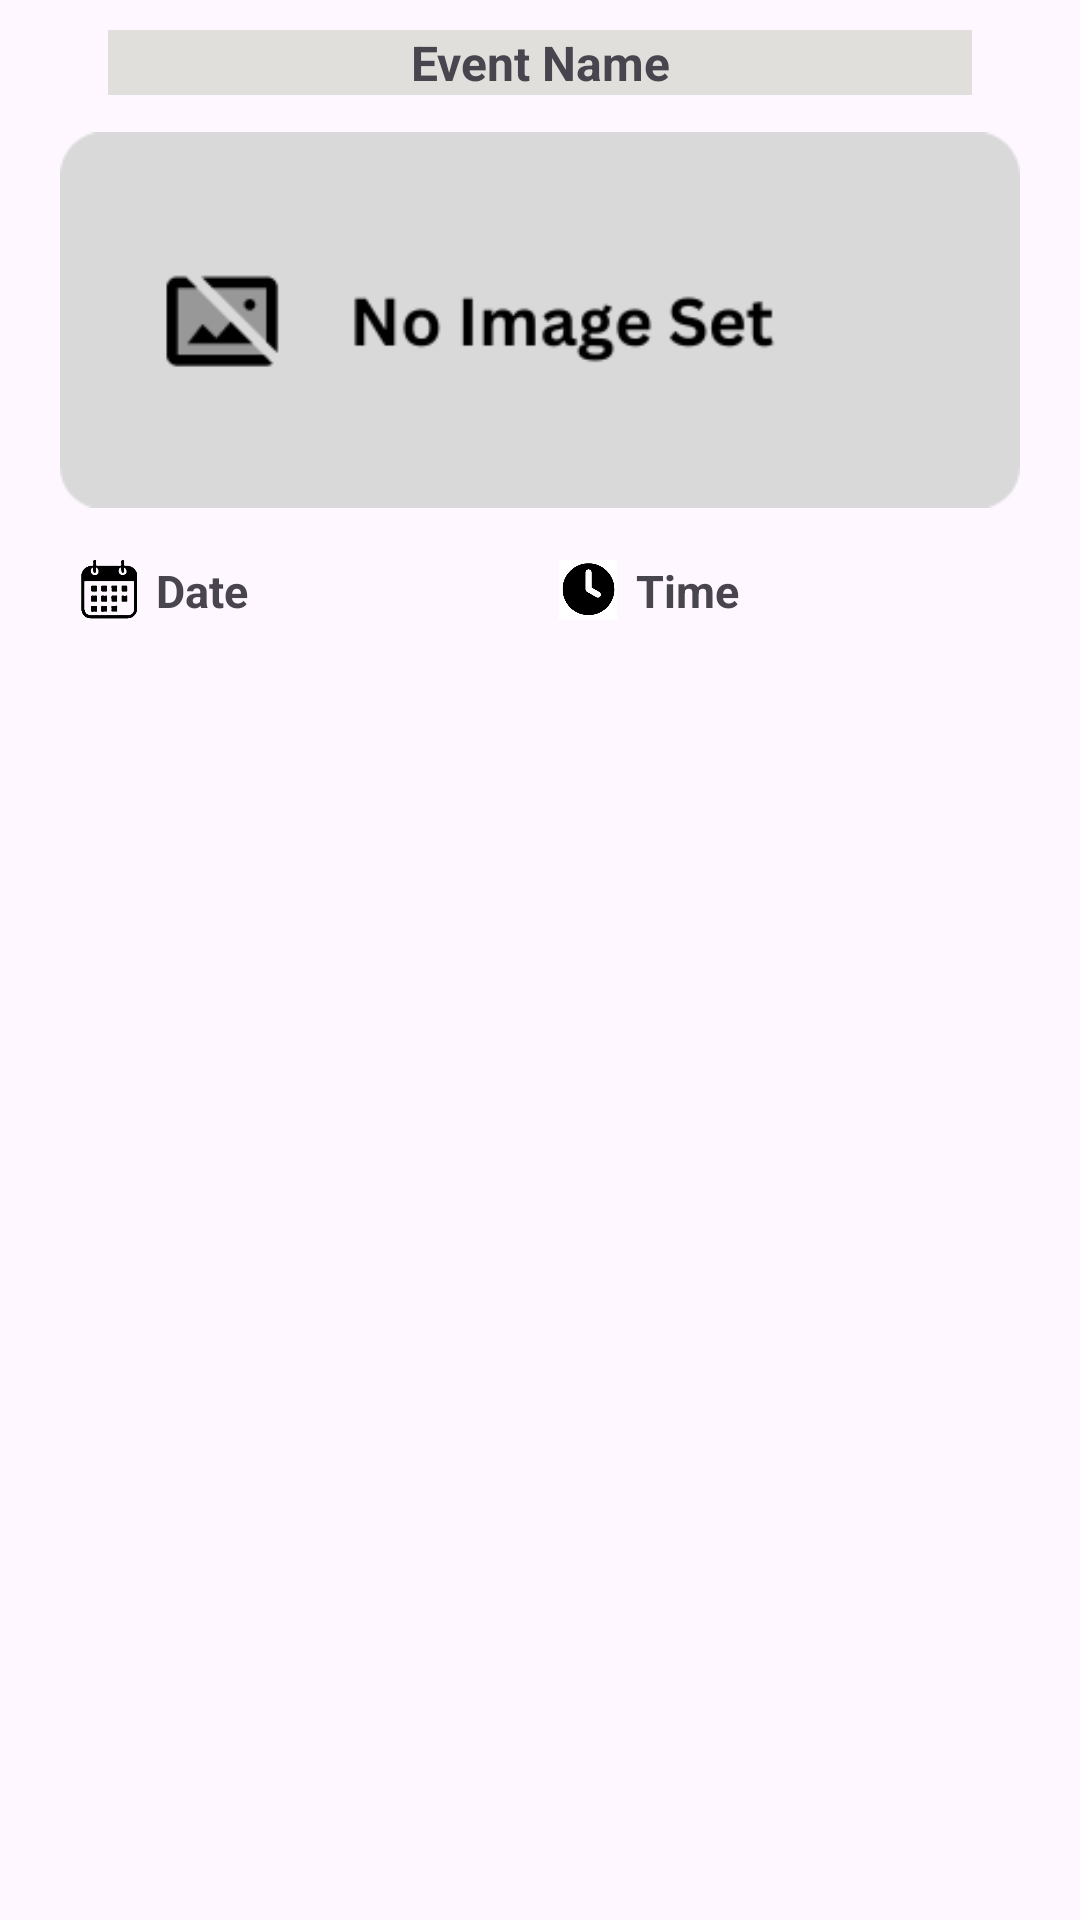

Where to tap for icons on this 1080w x 1920h app screen, as point (x, y):
calendar: point (109, 589)
clock: point (589, 589)
